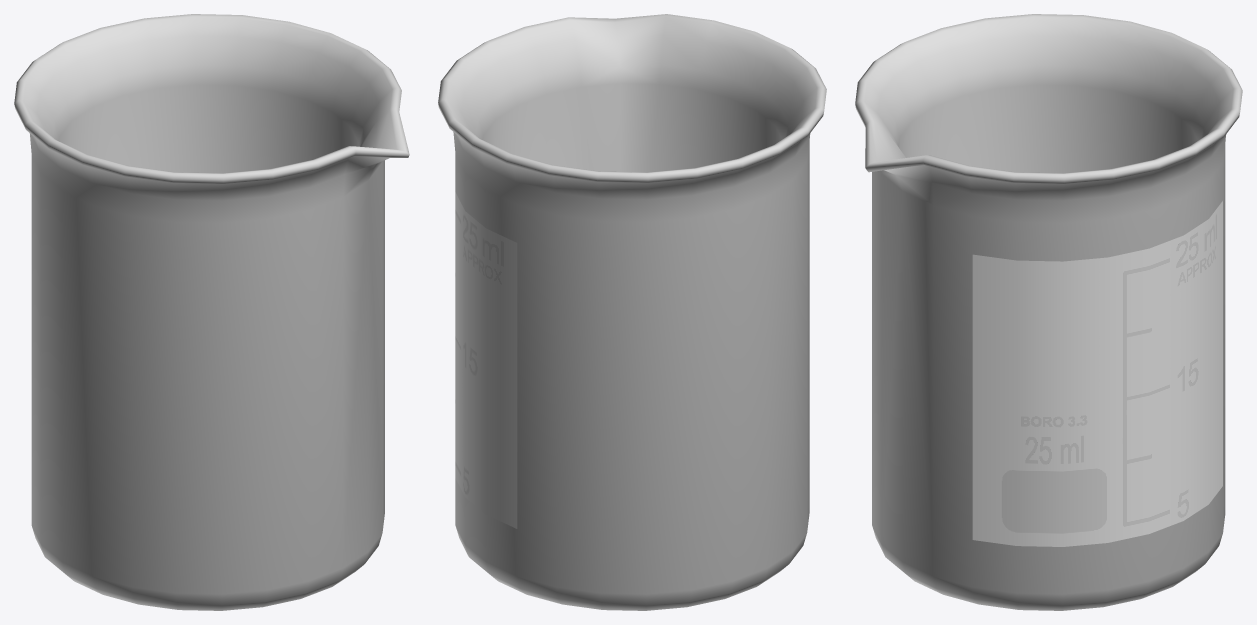
The model's file is Vaso 25ml.dae.
The picture shows the model from 3 angles, left to right: view 1: azimuth 30°, elevation 25°; view 2: azimuth 150°, elevation 25°; view 3: azimuth 270°, elevation 25°; orthographic projection.
Parts seen in each view (by area): view 1: Beaker 25ml; view 2: Beaker 25ml; view 3: Beaker 25ml.
Boxes of the visible parts, bbox=[...] form: Beaker 25ml: bbox=[14, 14, 409, 610]; Beaker 25ml: bbox=[438, 14, 826, 610]; Beaker 25ml: bbox=[855, 14, 1242, 610].
Bounding box in the file's own units: 0.0389 × 0.0389 × 0.05.
2 materials, 1 textured.
